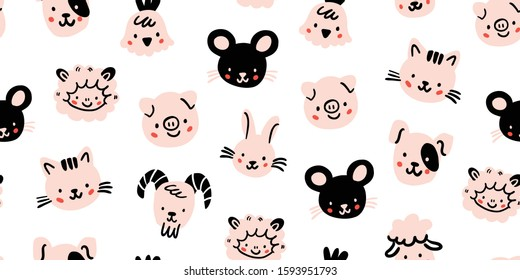animal: (133, 167, 217, 236), (217, 109, 288, 182), (294, 74, 370, 140), (201, 28, 282, 89), (131, 87, 204, 148), (49, 61, 123, 120), (306, 153, 373, 217), (462, 161, 520, 222), (220, 211, 291, 259), (469, 1, 520, 45)
bird: (111, 1, 175, 50), (299, 1, 358, 44)
cat: (386, 36, 464, 110), (29, 148, 113, 215)
dog: (382, 122, 454, 191)
